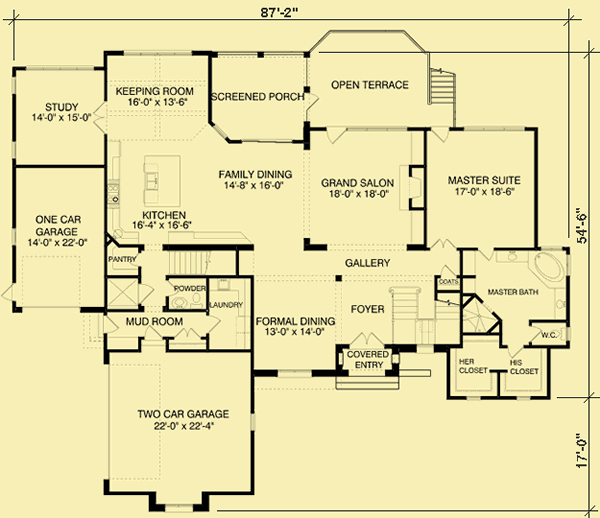door: (348, 331, 385, 350), (93, 100, 109, 136), (323, 124, 348, 145), (137, 280, 154, 306), (431, 125, 450, 142)
kitchen_bar: (140, 153, 184, 208)
stairs: (387, 283, 461, 347), (165, 249, 243, 278), (426, 67, 458, 106)
tub: (531, 251, 564, 287)
windows: (121, 46, 194, 59), (460, 122, 525, 133)
